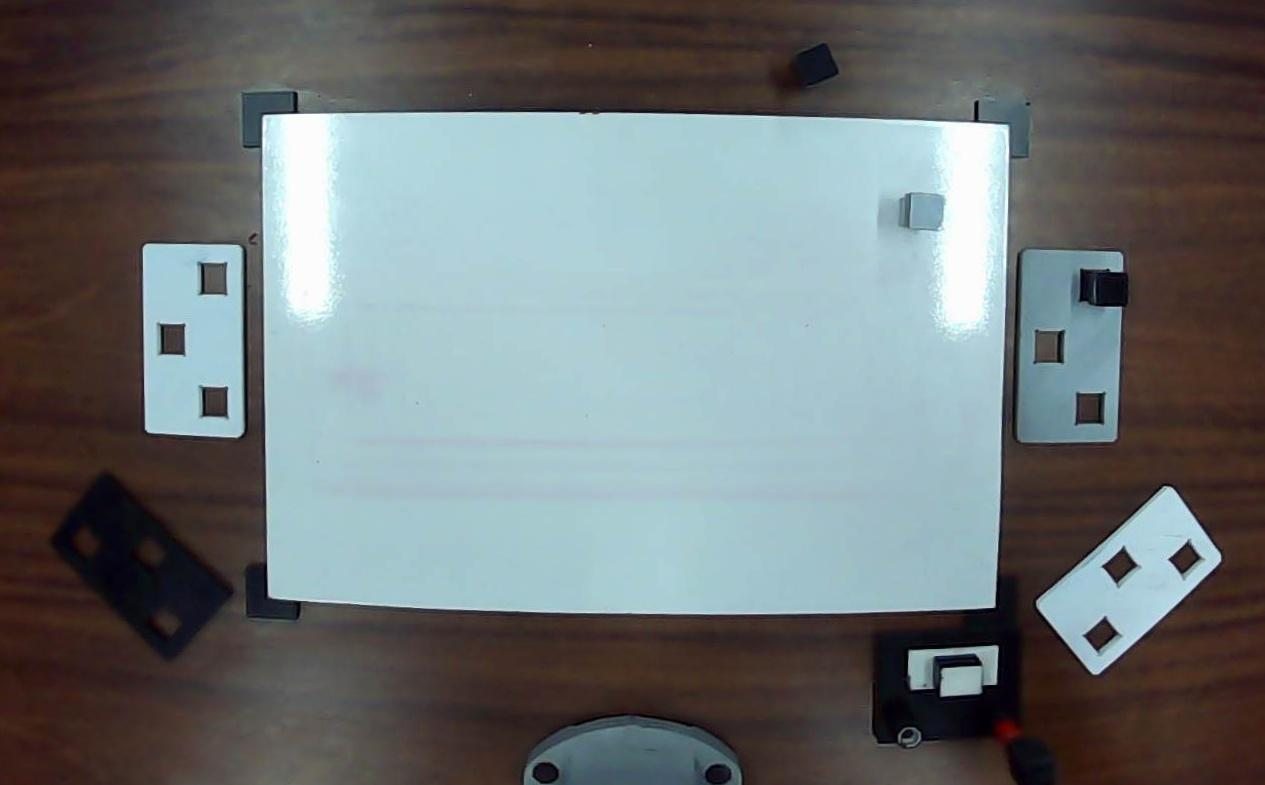pecaCinza: (896, 185, 954, 242)
pecaPreta: (788, 35, 848, 92)
